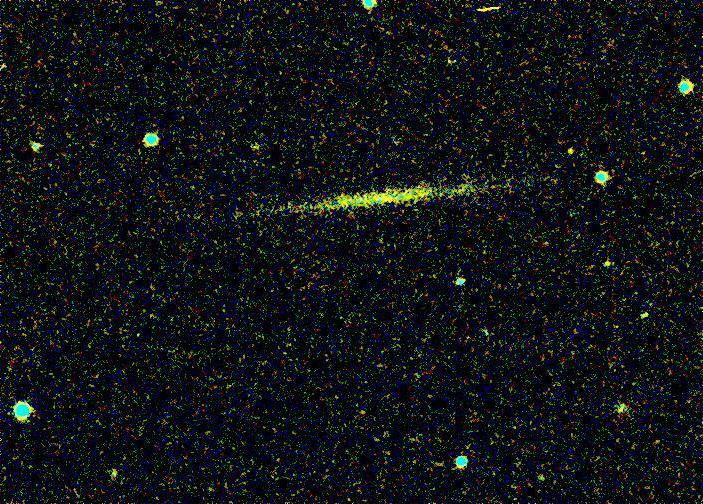star: (567, 135, 597, 165)
